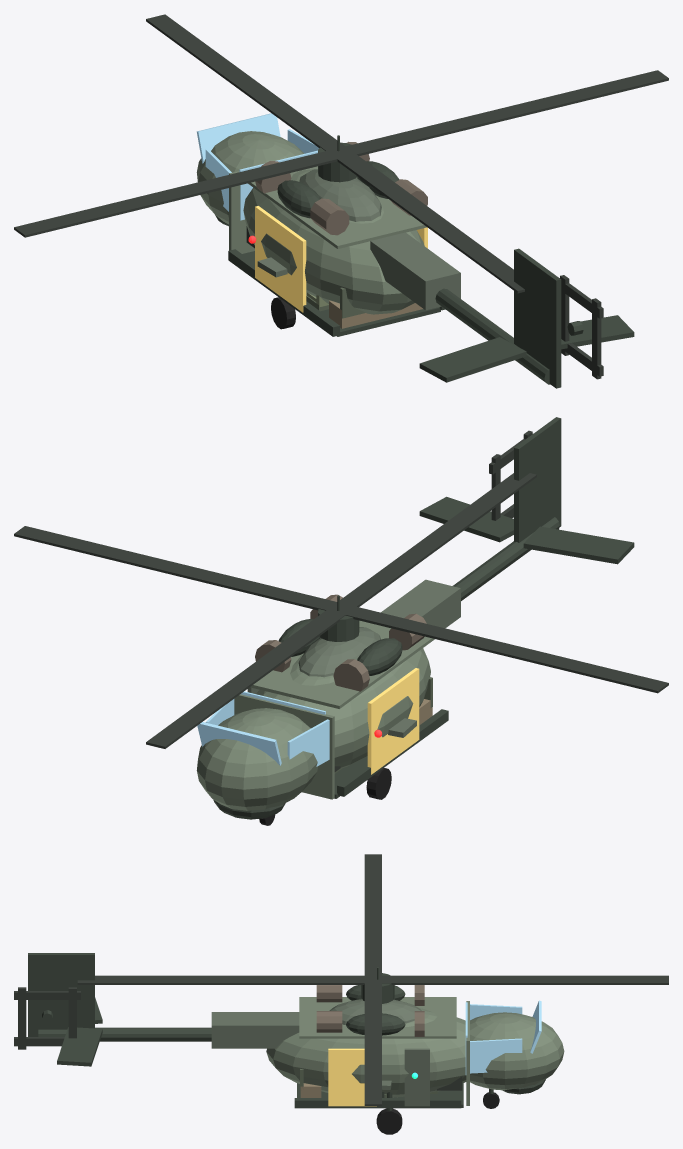
The model's file is uh60-extract.glb.
3 views of the same model, one above another, from view 1: azimuth 30°, elevation 25°; view 2: azimuth 150°, elevation 25°; view 3: azimuth 270°, elevation 25° (orthographic). The views are drawn at different scales.
Visible parts, largest first — view 1: Hull, Blade3, Fin, Blade0, BoomFairing, Blade2, Blade1, Nose, DoorL, CabinCeiling, StabL, Spine (+12 smaller); view 2: Nose, Blade1, Hull, Blade0, Fin, Blade3, Blade2, DoorL, CabinCeiling, StabL, BoomFairing, Bulkhead (+10 smaller); view 3: Hull, Nose, Fin, Blade0, BoomFairing, CabinCeiling, Blade1, Blade3, Blade2, DoorR, Boom, DoorOpen (+12 smaller).
Boxes of the visible parts, left/top/right/bottom form: Hull: left=243, top=169, right=424, bottom=314; Blade3: left=14, top=126, right=436, bottom=237; Fin: left=514, top=248, right=561, bottom=388; Blade0: left=146, top=14, right=401, bottom=193; BoomFairing: left=370, top=232, right=460, bottom=310; Blade2: left=279, top=112, right=524, bottom=293; Blade1: left=256, top=70, right=668, bottom=181; Nose: left=196, top=131, right=304, bottom=224; DoorL: left=255, top=206, right=306, bottom=312; CabinCeiling: left=248, top=166, right=426, bottom=248; StabL: left=419, top=337, right=526, bottom=382; Spine: left=299, top=169, right=381, bottom=221; Nose: left=196, top=708, right=318, bottom=810; Blade1: left=14, top=526, right=436, bottom=634; Hull: left=256, top=636, right=430, bottom=767; Blade0: left=146, top=568, right=402, bottom=748; Fin: left=514, top=417, right=561, bottom=542; Blade3: left=245, top=582, right=668, bottom=693; Blade2: left=281, top=473, right=536, bottom=650; DoorL: left=367, top=668, right=419, bottom=774; CabinCeiling: left=250, top=620, right=434, bottom=708; StabL: left=523, top=526, right=634, bottom=564; BoomFairing: left=381, top=579, right=460, bottom=628; Bulkhead: left=234, top=694, right=334, bottom=799; Hull: left=266, top=1008, right=466, bottom=1097; Nose: left=470, top=1012, right=564, bottom=1090; Fin: left=28, top=953, right=94, bottom=1036; Blade0: left=290, top=975, right=668, bottom=984; BoomFairing: left=211, top=1012, right=299, bottom=1048; CabinCeiling: left=299, top=997, right=456, bottom=1038; Blade1: left=364, top=944, right=381, bottom=1105; Blade3: left=364, top=854, right=381, bottom=1014; Blade2: left=77, top=975, right=289, bottom=984; DoorR: left=328, top=1048, right=376, bottom=1106; Boom: left=38, top=1027, right=211, bottom=1041; DoorOpen: left=404, top=1048, right=429, bottom=1106.
Bounding box in the file's own units: 12.79 × 3.83 × 14.17.
